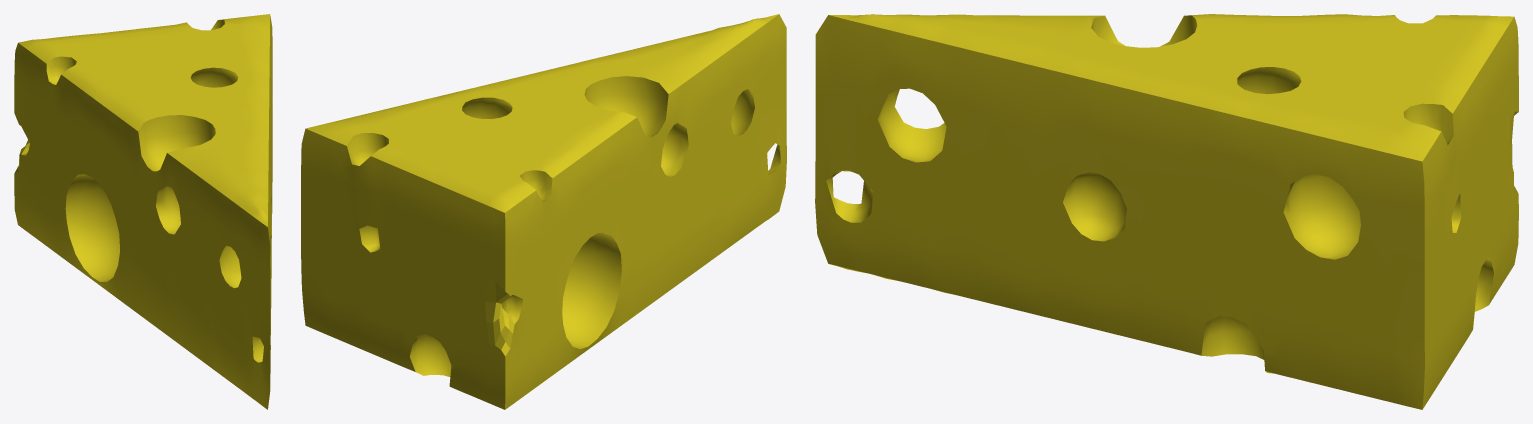
File: cheese.fbx
The picture shows the model from 3 angles, left to right: view 1: azimuth 30°, elevation 25°; view 2: azimuth 150°, elevation 25°; view 3: azimuth 270°, elevation 25°; orthographic projection. The views are drawn at different scales.
Visible parts, largest first — view 1: Cylinder001; view 2: Cylinder001; view 3: Cylinder001.
Part boxes in pixels (<box>): Cylinder001: <box>14,14,272,409</box>; Cylinder001: <box>301,14,786,409</box>; Cylinder001: <box>815,14,1518,409</box>.
Size of the model in its own units: 1.23 by 0.9937 by 2.42.
